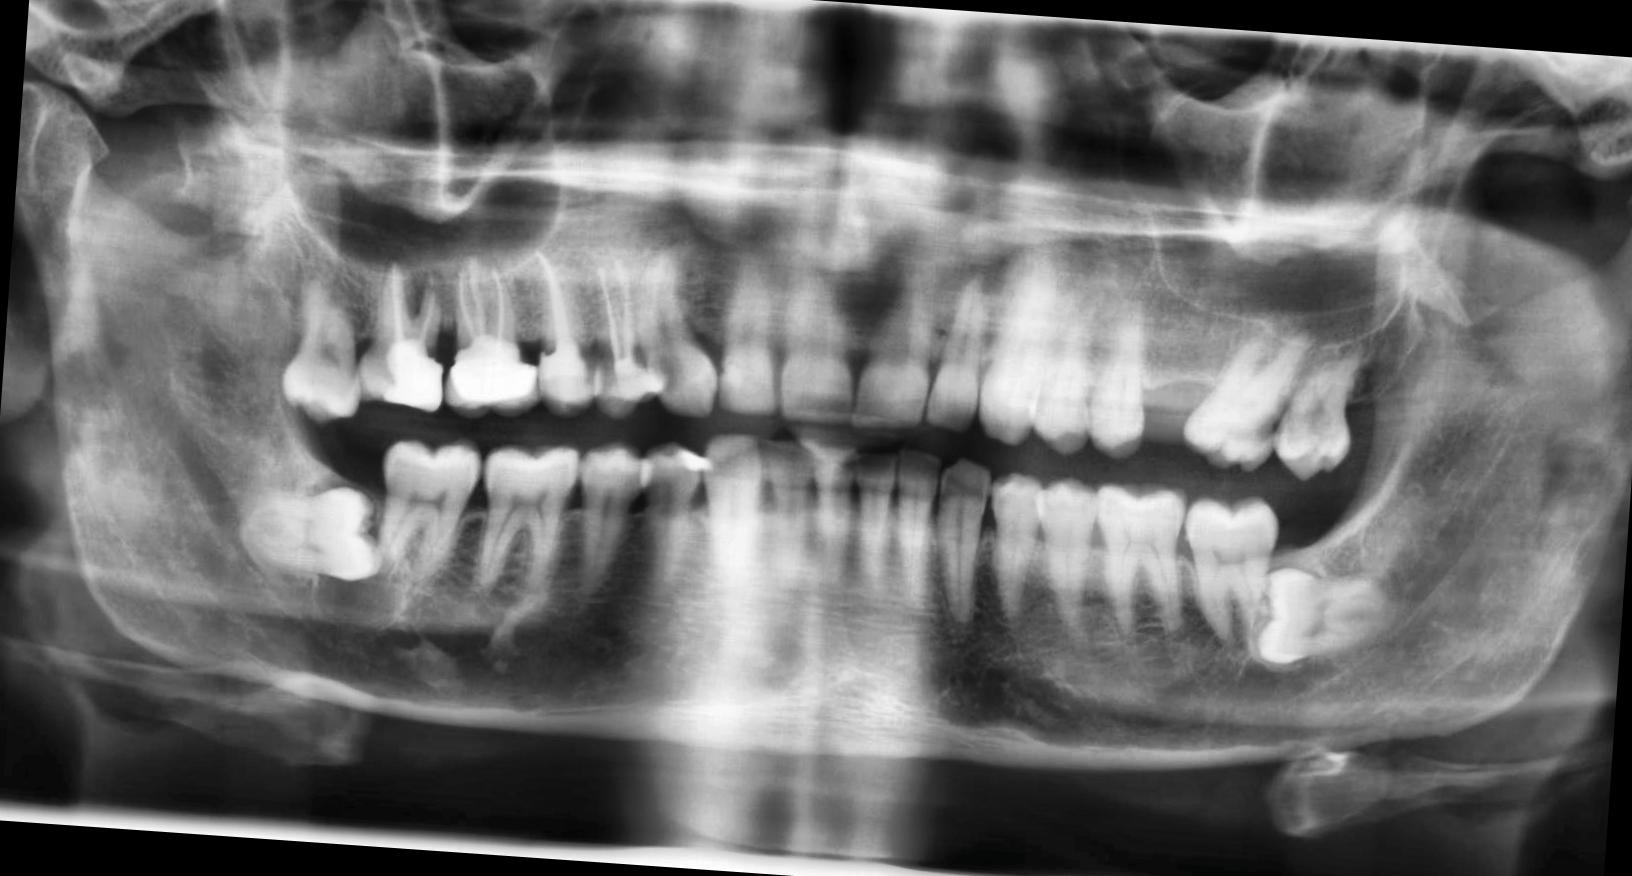dentigerous: (298, 468, 409, 637)
